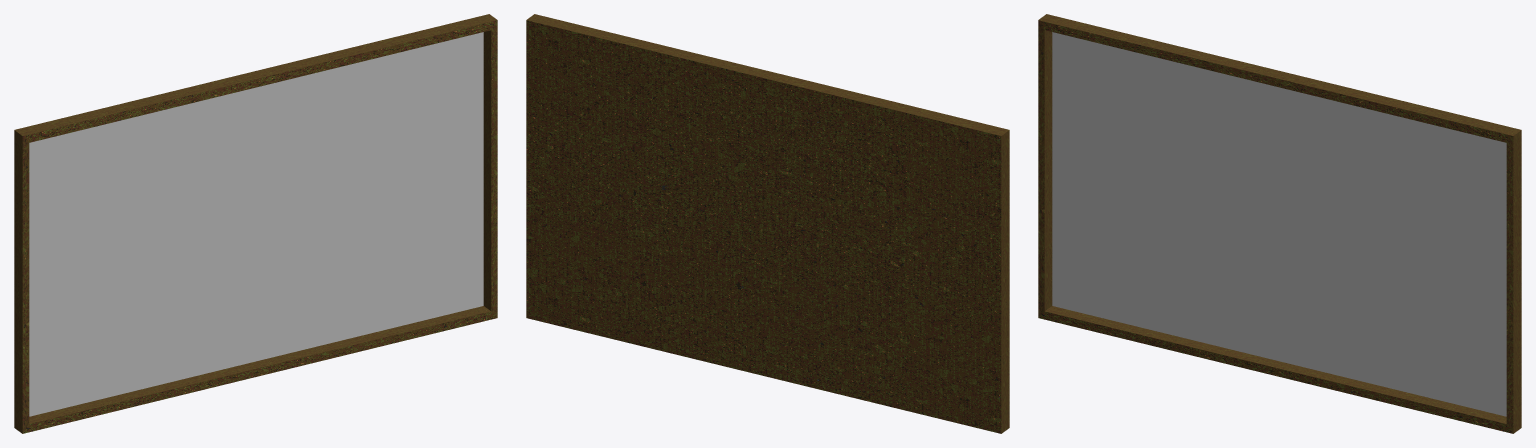
File: SM_OpCorkBoardA.fbx
3 renders of one model, left to right at view 1: azimuth 30°, elevation 25°; view 2: azimuth 150°, elevation 25°; view 3: azimuth 330°, elevation 25°, orthographic.
Visible parts, largest first — view 1: OpCorkBoardA; view 2: OpCorkBoardA; view 3: OpCorkBoardA.
Part boxes in pixels (x1=…): OpCorkBoardA: x1=14, y1=14, x2=497, y2=433; OpCorkBoardA: x1=526, y1=14, x2=1009, y2=433; OpCorkBoardA: x1=1038, y1=14, x2=1521, y2=433.
Size of the model in its own units: 0.9 by 0.5391 by 0.028.
